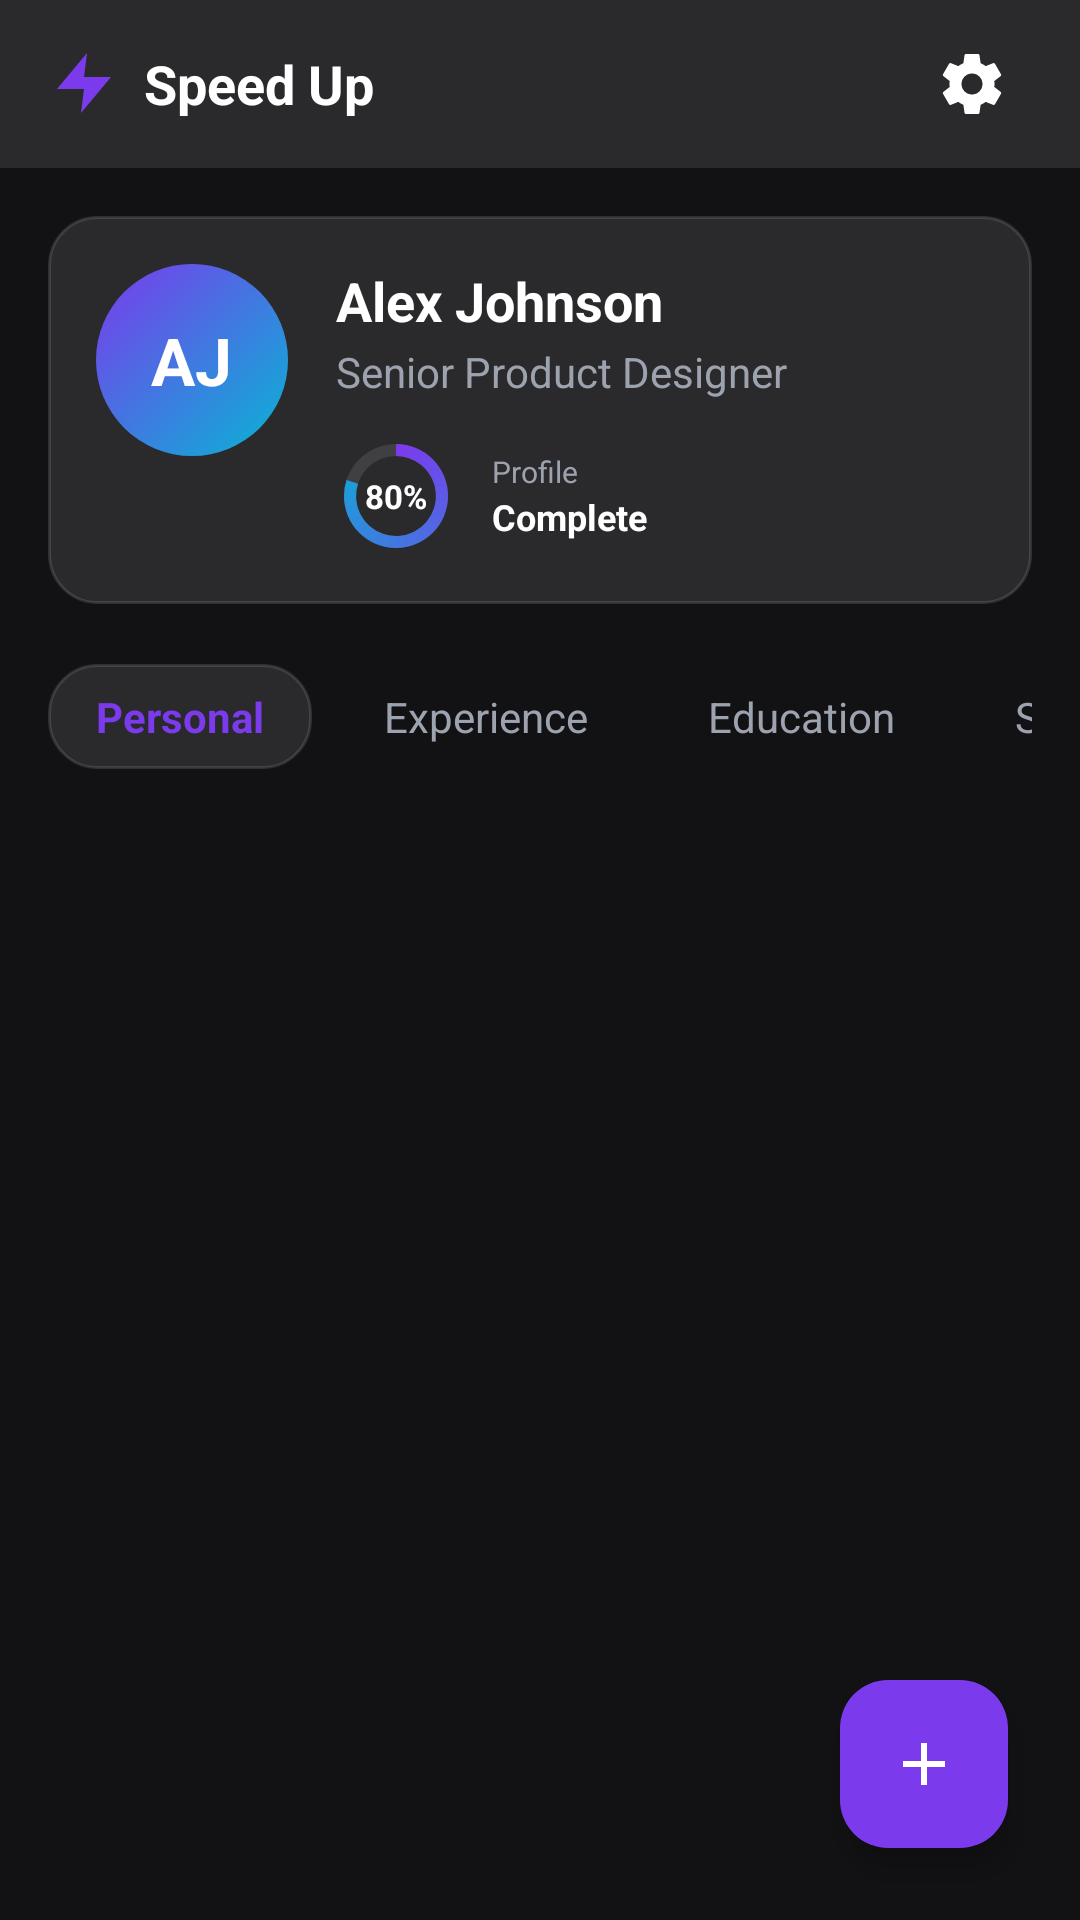

Locate icon controls on the screen. Image size 1080 × 1920, boxes as (left=x1, top=y1, right=x2, bottom=y2).
settings: (left=942, top=54, right=1001, bottom=114)
zap: (left=57, top=53, right=111, bottom=113)
